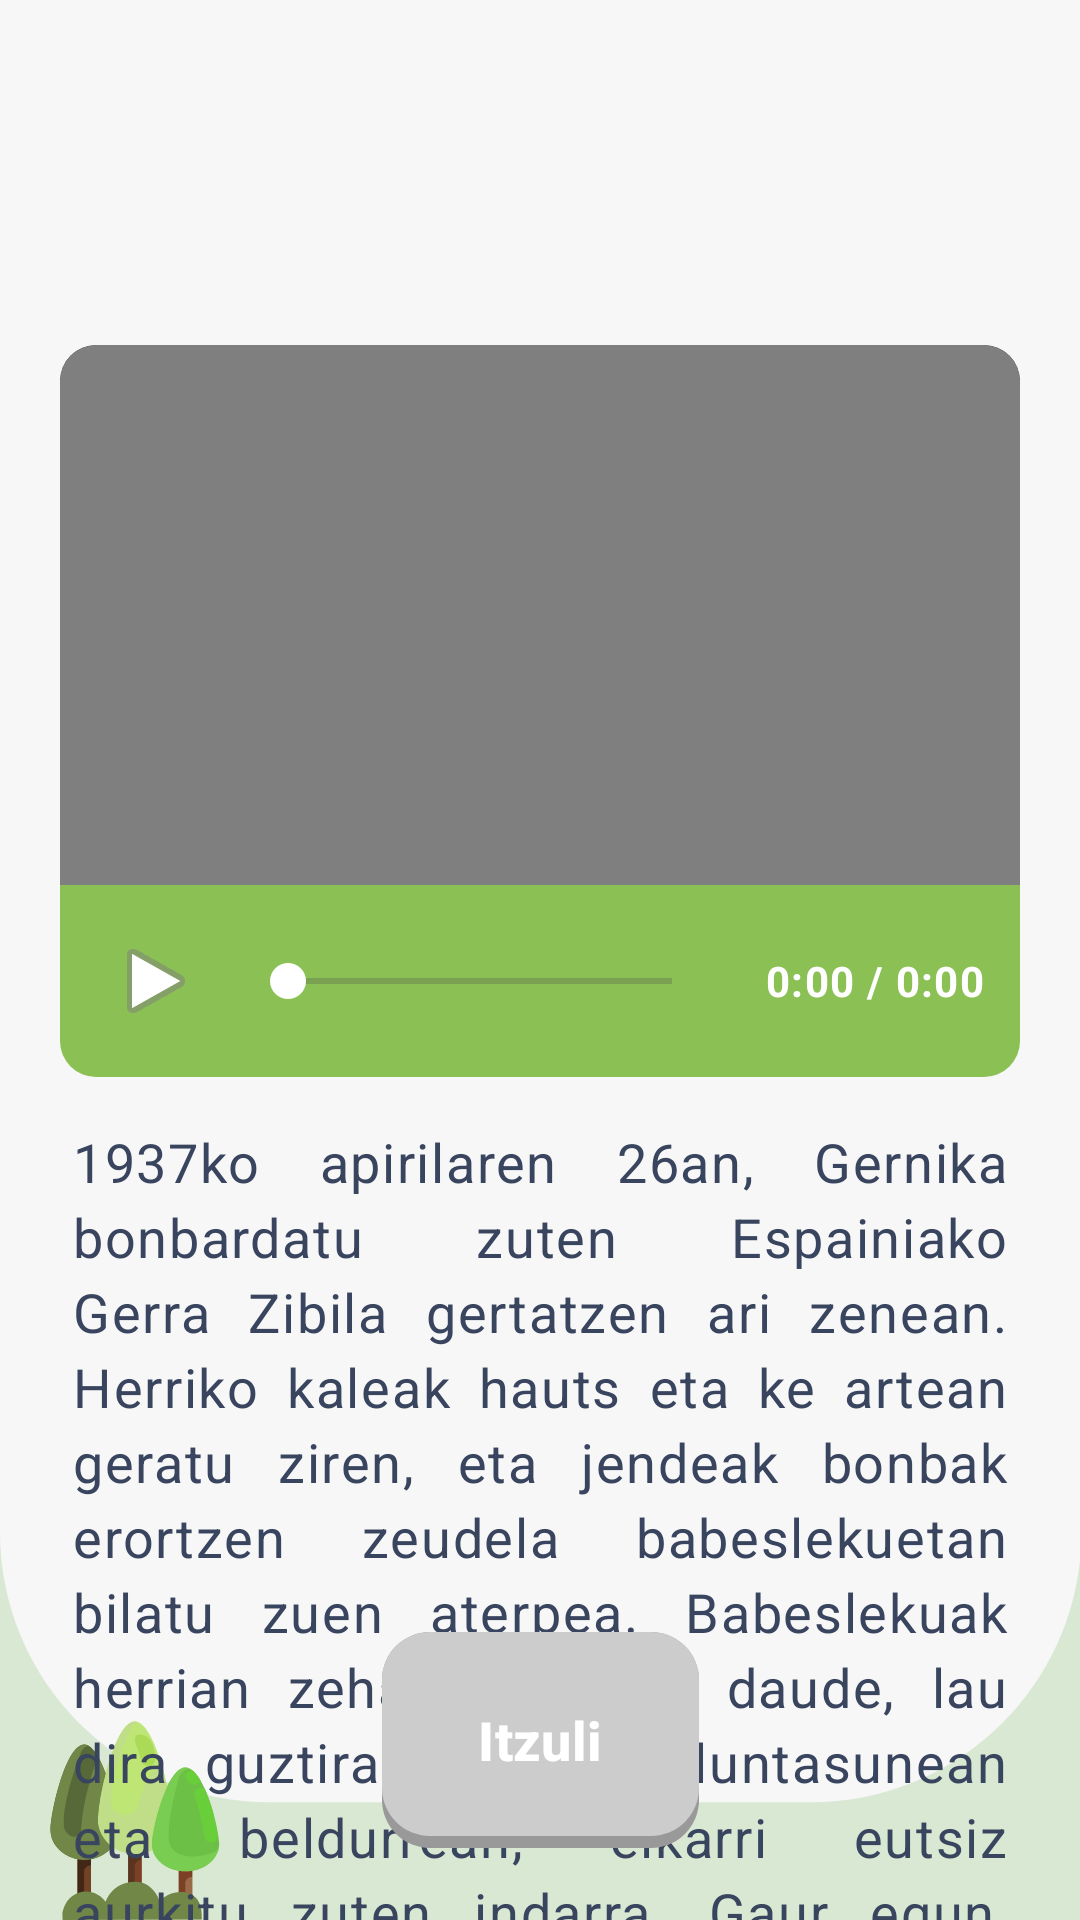

Icons on this 1080px x 1920px Android screen, each with its box as (x1, y1, x2, y2):
Erreproduzitu/Gelditu: (127, 949, 185, 1013)
